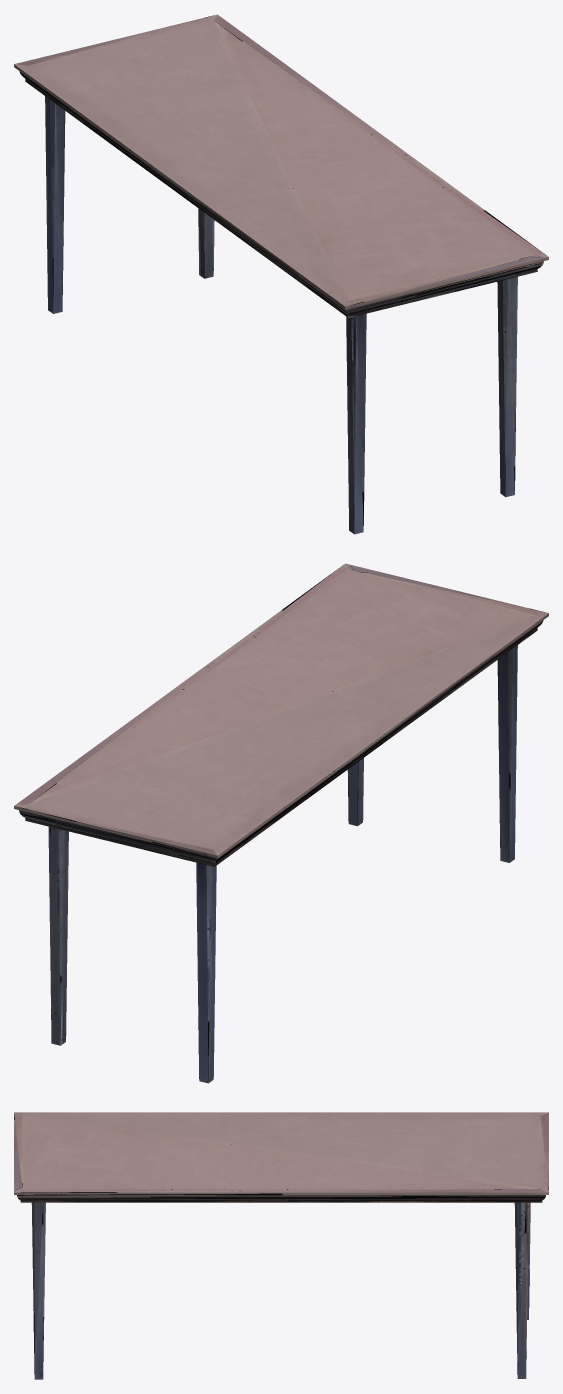
The picture shows the model from 3 angles, top to bottom: view 1: azimuth 30°, elevation 25°; view 2: azimuth 150°, elevation 25°; view 3: azimuth 270°, elevation 25°; orthographic projection. The views are drawn at different scales.
Parts seen in each view (by area): view 1: Node; view 2: Node; view 3: Node.
Boxes of the visible parts, x1,y1,x2,y2 form: Node: (14, 14, 548, 534); Node: (14, 563, 548, 1083); Node: (14, 1112, 548, 1379).
Bounding box in the file's own units: 0.2484 × 0.2823 × 0.7.
Materials: 1 (1 with a texture image).
